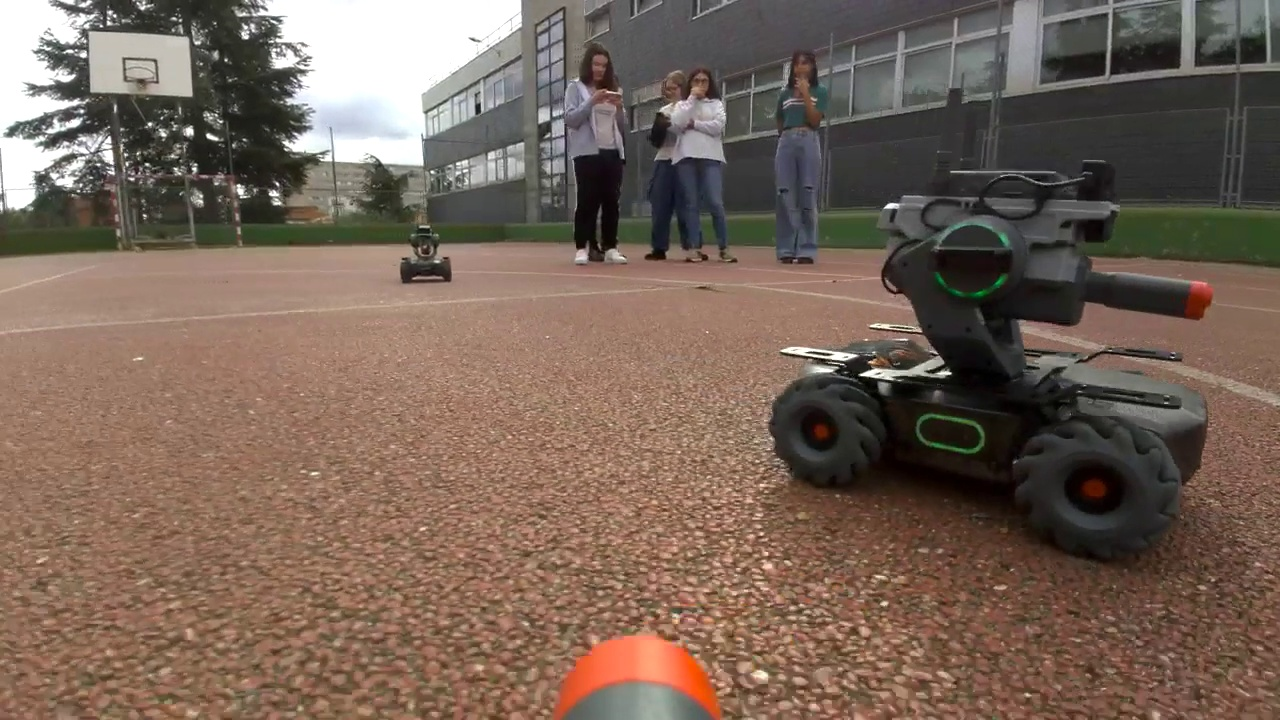robot: (769, 164, 1212, 563), (402, 225, 450, 283)
